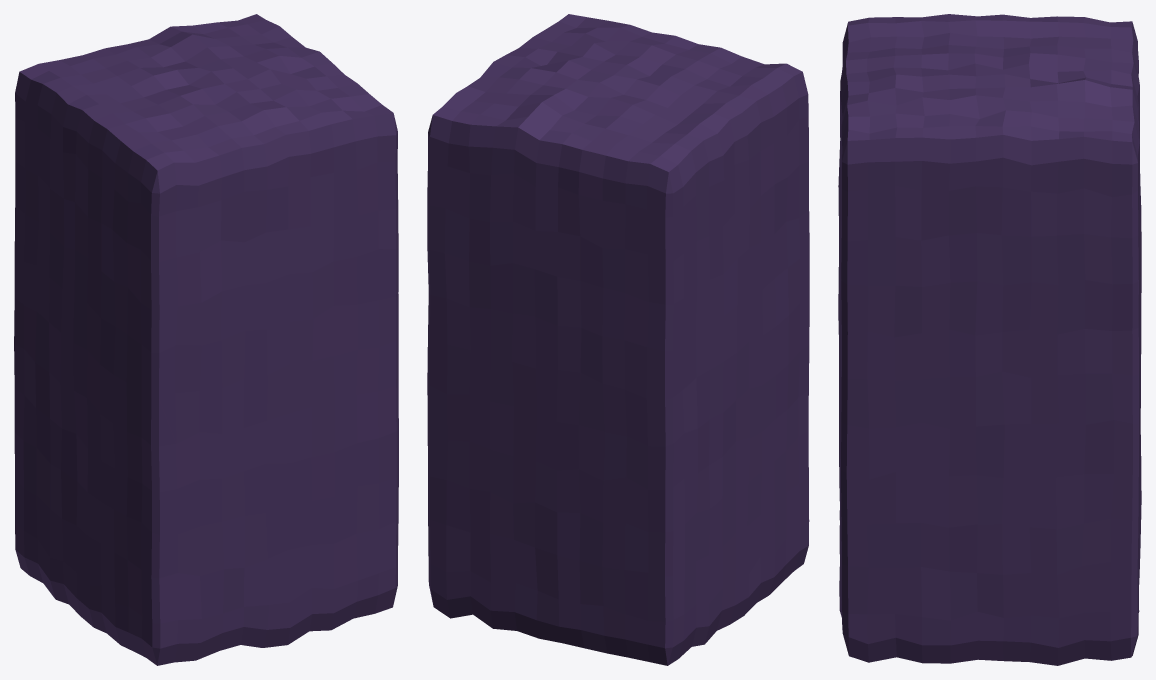
The model's file is player.fbx.
The picture shows the model from 3 angles, left to right: view 1: azimuth 30°, elevation 25°; view 2: azimuth 150°, elevation 25°; view 3: azimuth 270°, elevation 25°; orthographic projection. The views are drawn at different scales.
Visible parts, largest first — view 1: Player.001; view 2: Player.001; view 3: Player.001.
Part boxes in pixels (x1,y1,x2,y2): Player.001: [14, 14, 398, 665]; Player.001: [427, 14, 809, 665]; Player.001: [838, 14, 1141, 665].
Size of the model in its own units: 1 by 1 by 2.
